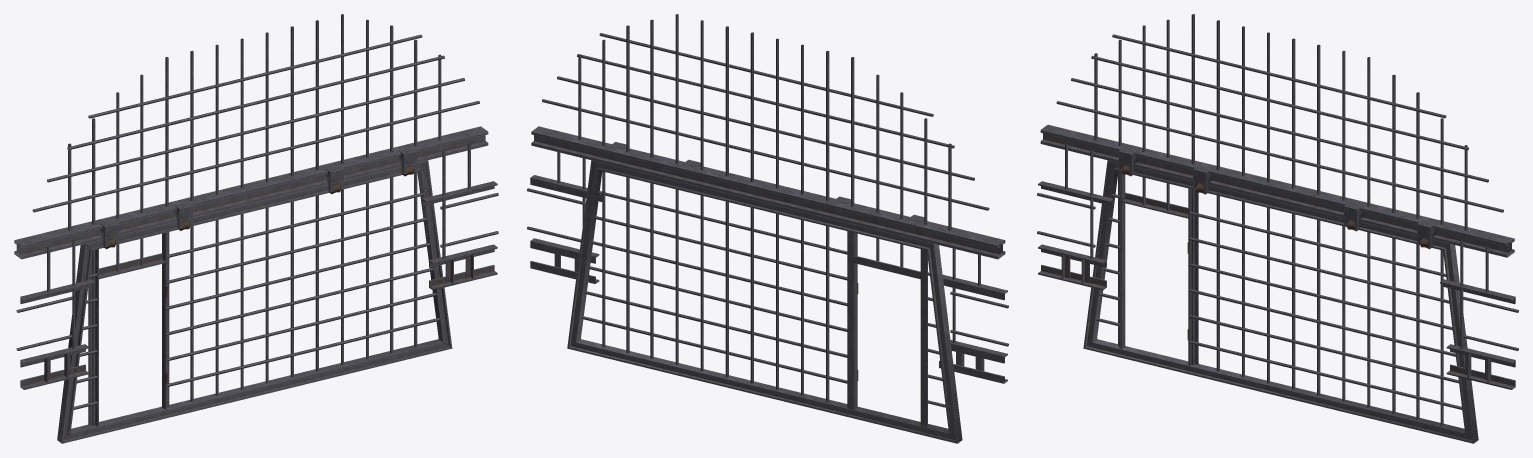
Rendered from SM_Large_Sewer_Cage.fbx.
The picture shows the model from 3 angles, left to right: view 1: azimuth 30°, elevation 25°; view 2: azimuth 150°, elevation 25°; view 3: azimuth 330°, elevation 25°; orthographic projection.
Visible parts, largest first — view 1: SM_Large_Sewer_Cage_A; view 2: SM_Large_Sewer_Cage_A; view 3: SM_Large_Sewer_Cage_A.
Part boxes in pixels (x1=…): SM_Large_Sewer_Cage_A: x1=14, y1=14, x2=498, y2=443; SM_Large_Sewer_Cage_A: x1=527, y1=14, x2=1008, y2=443; SM_Large_Sewer_Cage_A: x1=1037, y1=14, x2=1518, y2=443.
Bounding box in the file's own units: 720 × 513 × 26.39.
